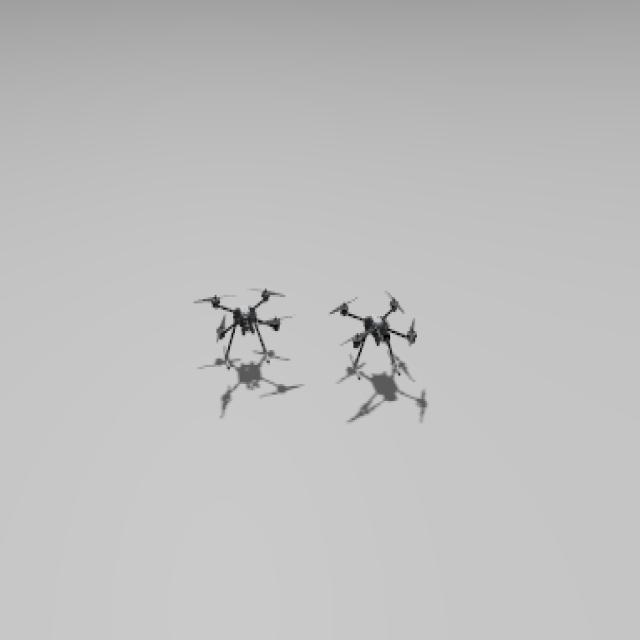drone: (327, 289, 426, 385), (195, 284, 285, 369)
